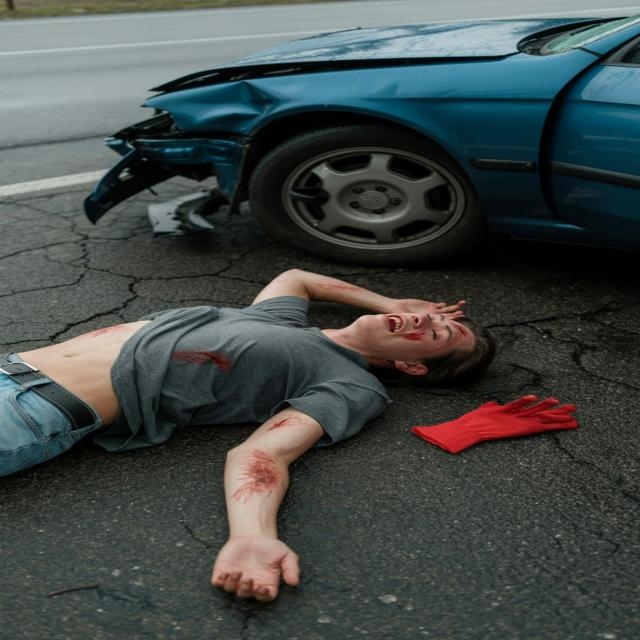injury: (333, 308, 492, 373), (233, 451, 284, 499), (392, 331, 424, 341)
